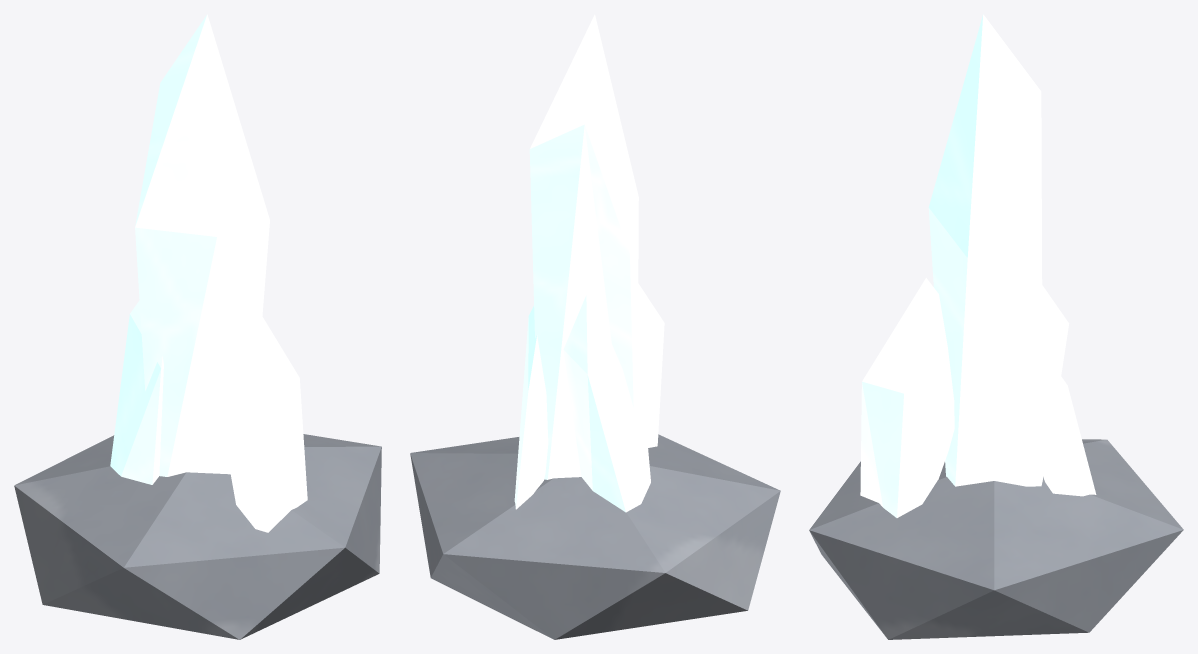
The model's file is ice_crystal_small_lod1.gltf.
3 views of the same model, side by side, from view 1: azimuth 30°, elevation 25°; view 2: azimuth 150°, elevation 25°; view 3: azimuth 270°, elevation 25° (orthographic).
Parts seen in each view (by area): view 1: ice_crystal_small_LOD1; view 2: ice_crystal_small_LOD1; view 3: ice_crystal_small_LOD1.
Boxes of the visible parts, <box> form: ice_crystal_small_LOD1: <box>14,14,381,639</box>; ice_crystal_small_LOD1: <box>410,14,780,639</box>; ice_crystal_small_LOD1: <box>809,14,1183,639</box>.
Size of the model in its own units: 0.4429 by 0.6937 by 0.4179.
1 material, 1 textured.
